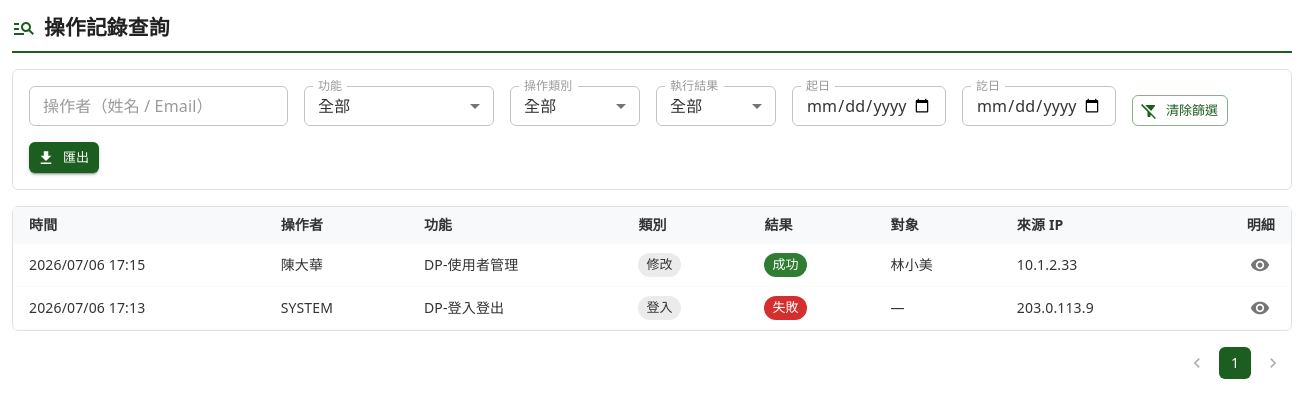
Test: AuditPage 操作記錄查詢（唯讀） › 查無資料時匯出停用，篩選改變後跟著當下查詢結果（#660，對齊 DM）
This screenshot has width=1304, height=396.
Expected: the text "陳大華" is shown, [265, 243, 408, 286]
Expected: the button "匯出" is enabled, [29, 142, 99, 173]
Step 1. Click the dropdown named "執行結果" → [686, 106], box [670, 95, 702, 117]
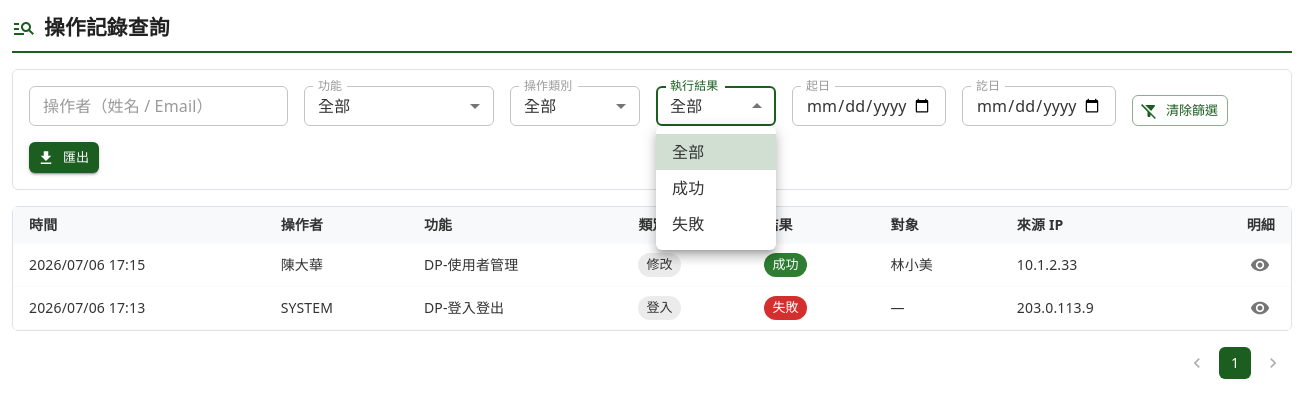
Step 2. Click the option "失敗" → [688, 224], box [672, 213, 704, 235]
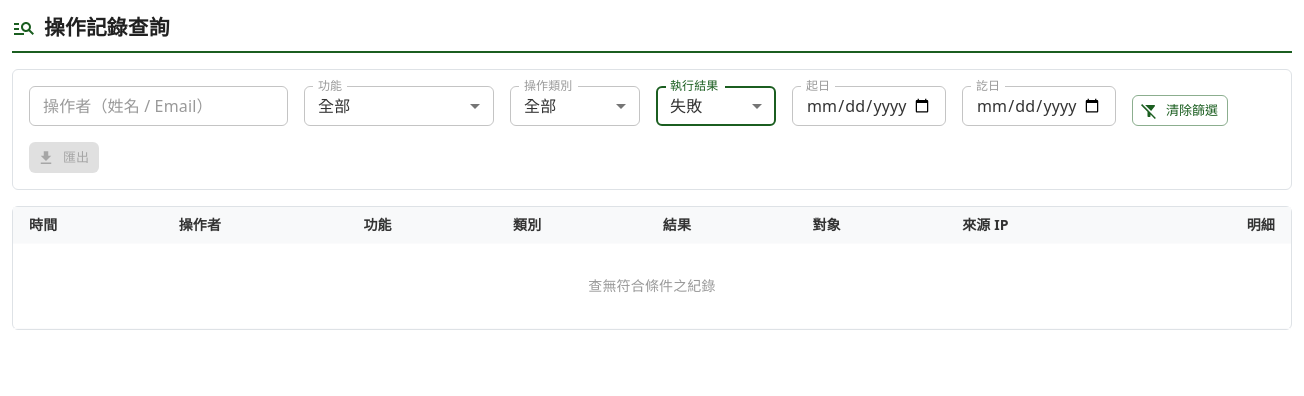
Expected: the text "查無符合條件之紀錄" is shown, [588, 276, 716, 295]
Expected: the button "匯出" is disabled, [29, 142, 99, 173]
Step 3. Click the button "清除篩選" → [1180, 111], box [1132, 95, 1228, 126]
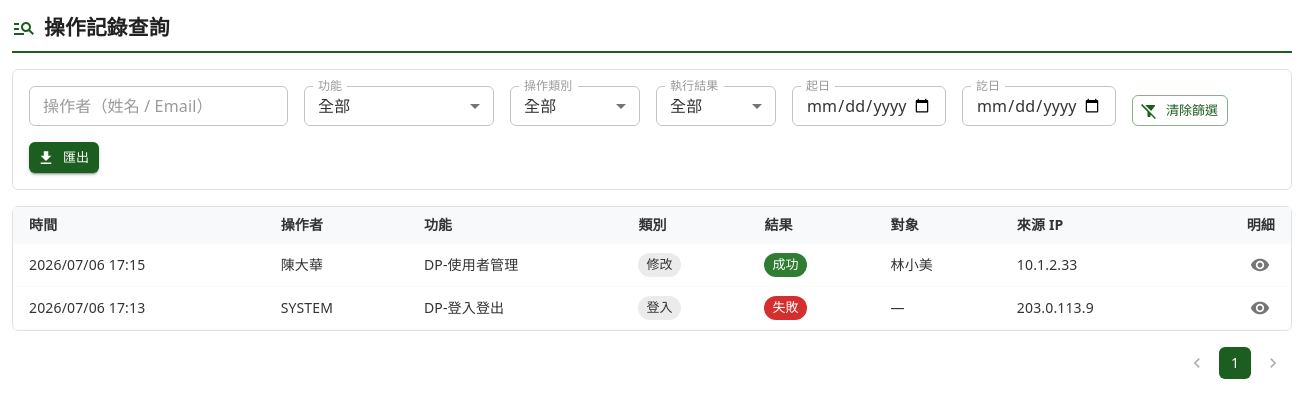
Expected: the text "陳大華" is shown, [265, 243, 408, 286]
Expected: the button "匯出" is enabled, [29, 142, 99, 173]
